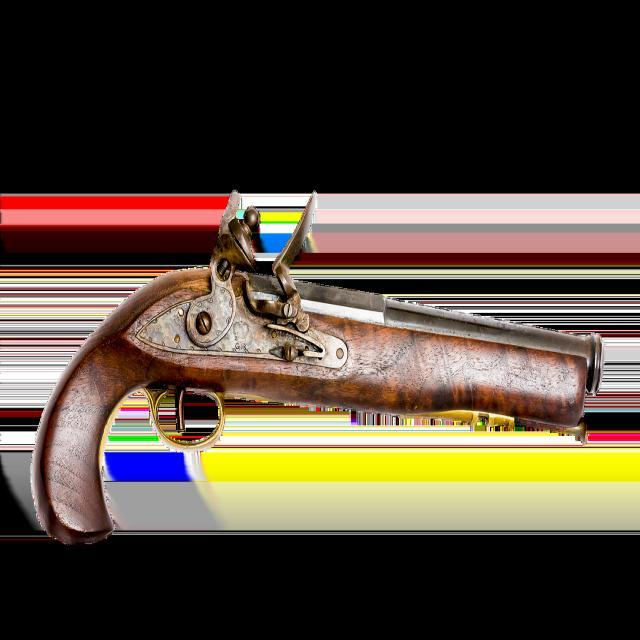Gun: (32, 194, 600, 543)
